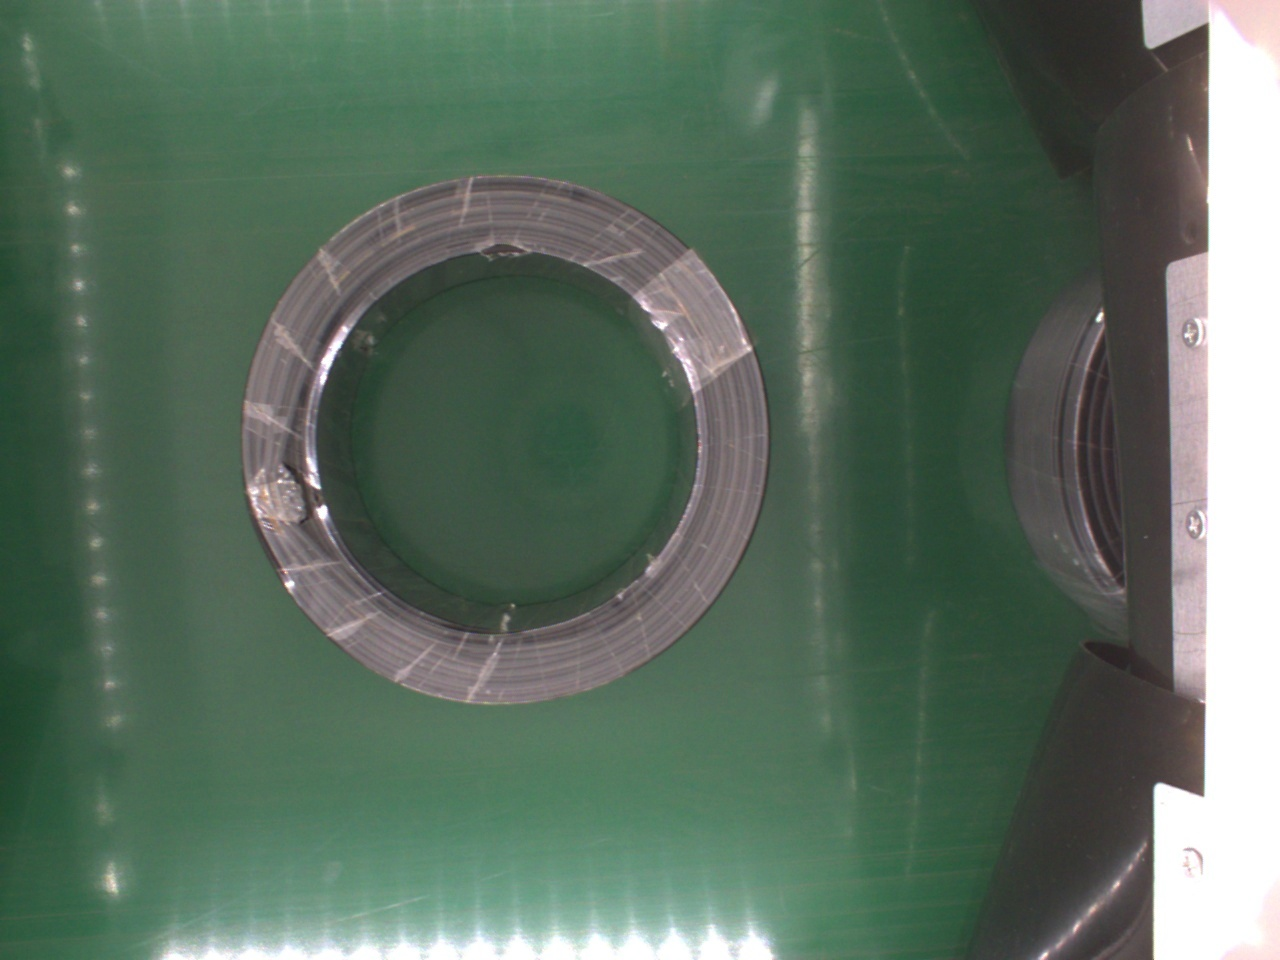black: (236, 173, 770, 710), (1007, 269, 1124, 659)
